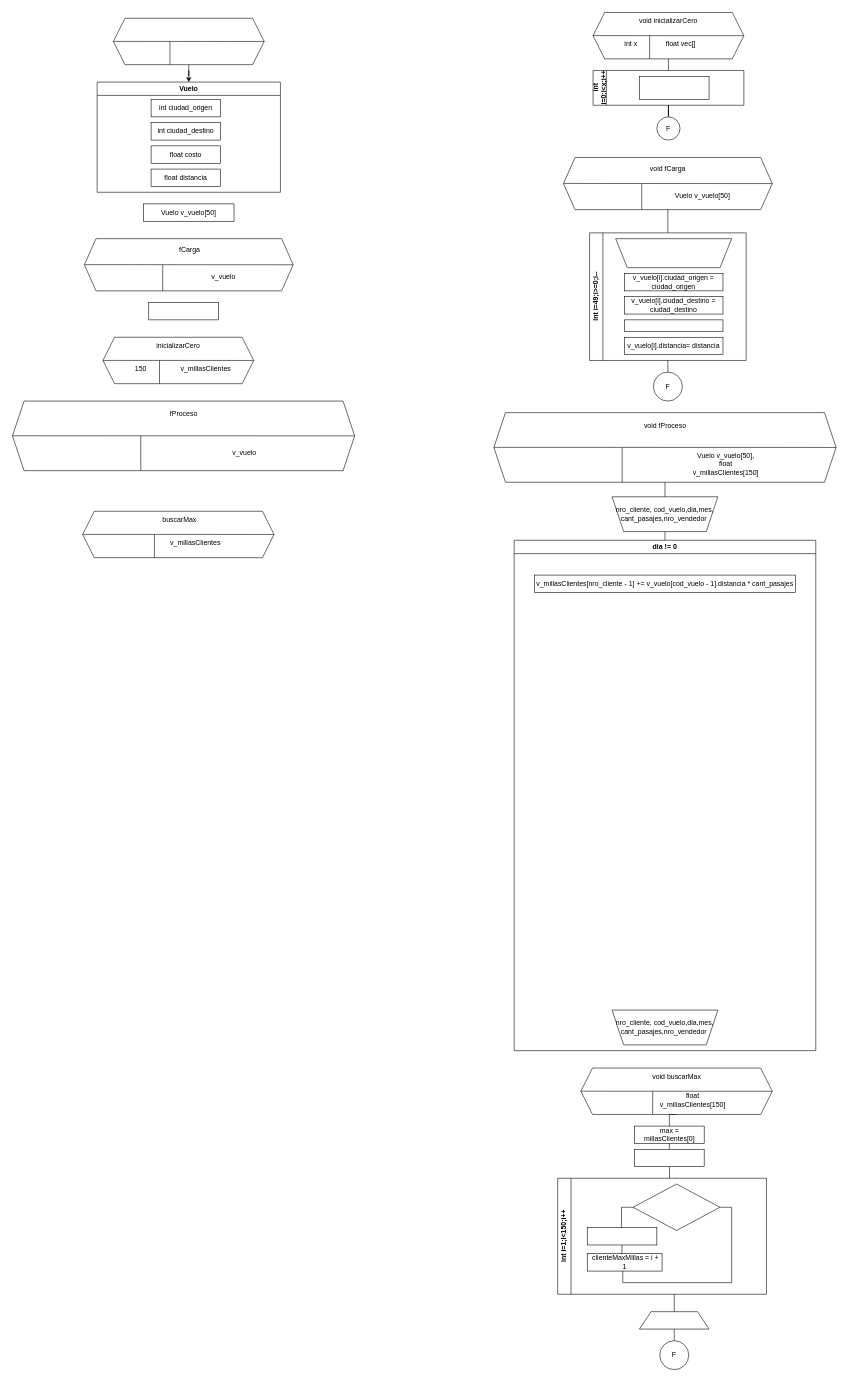
The diagram is 849 pixels wide and 1380 high, and some of its shapes have lost their labels. Here are the shapes that lost their labels. From the top down, the centre of each, then its label:
the point at 188,41: void main
the point at 674,87: vec[i] = 0
the point at 673,253: ciudad_origen,ciudad_destino, costo,distancia
the point at 183,311: float v_millasClientes [150]
the point at 673,325: v_vuelo[i].costo = costo
the point at 669,1158: clienteMaxMillas = 1
the point at 676,1206: v_millasClientes[i] > max
the point at 622,1236: max = millasClientes[i]
the point at 674,1320: clienteMaxMillas
